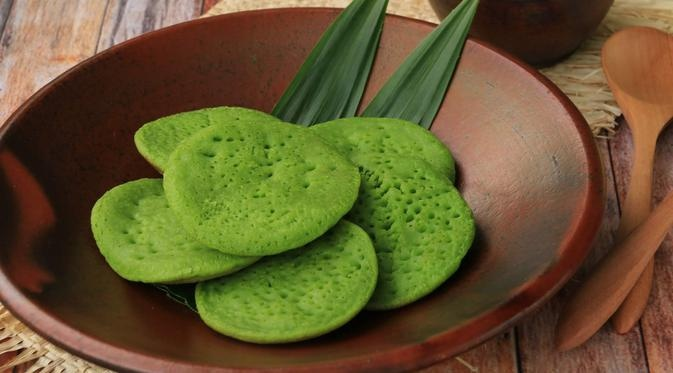srabi: (146, 117, 375, 251)
